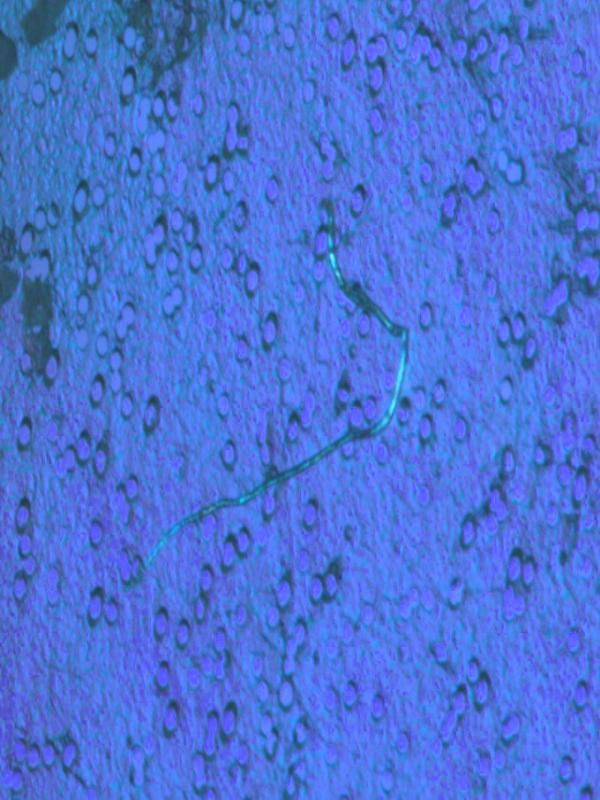microplastic: (2, 1, 599, 797), (117, 200, 411, 598)
